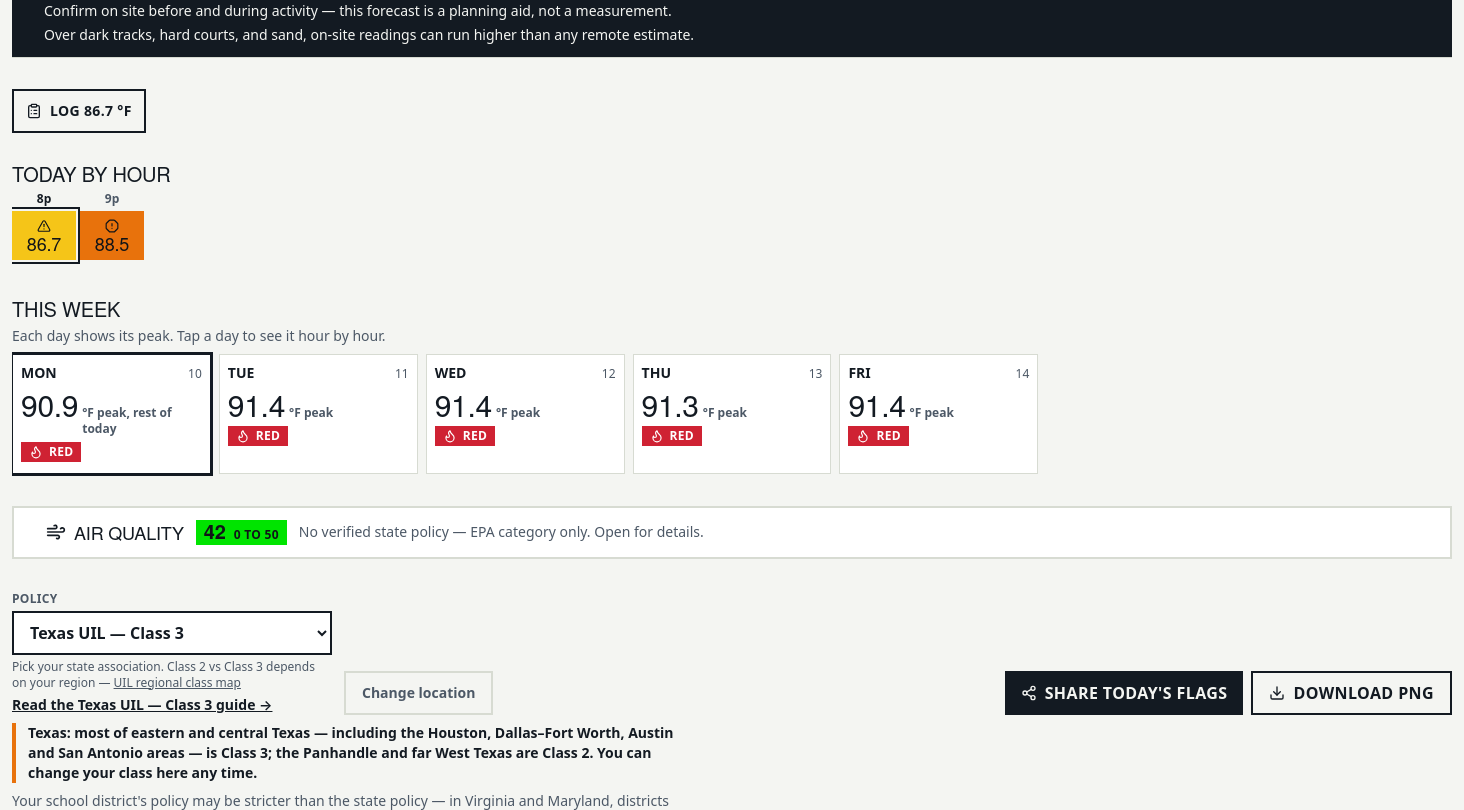
Test: week strip drill-down › the hourly view changes content, not just its label
(page scrolled)
Expected: the heading "This week" is shown, [12,294,120,323]
What coordinates should you click on to do the following:
click the button "Wed 12 91.4 °F peak RED"
I would click on:
 (525, 406)
Its box is [427,355,624,457].
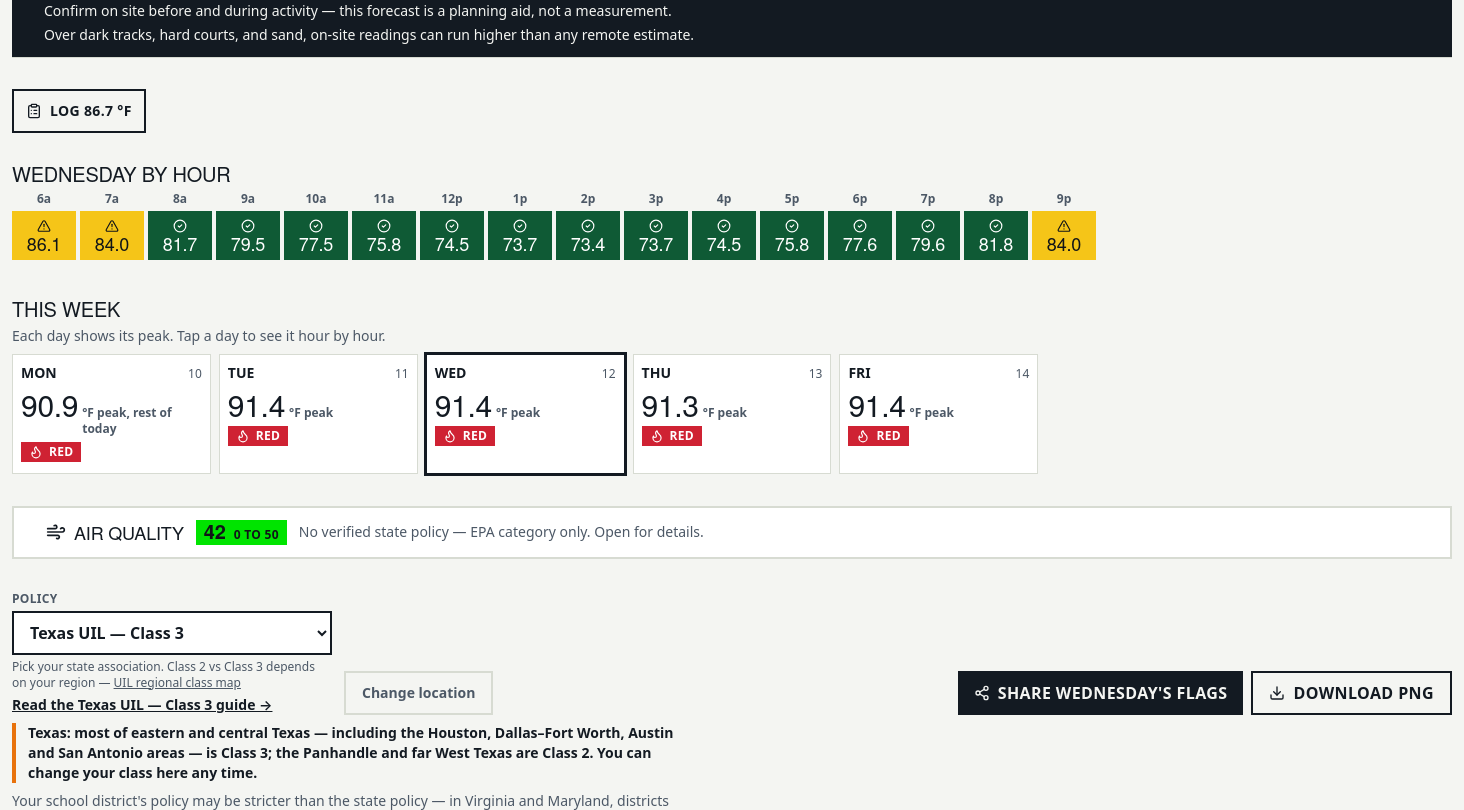
What coordinates should you click on to do the following:
click the button "Tue 11 91.4 °F peak RED"
I would click on:
 (318, 406)
Its box is [220,355,417,457].
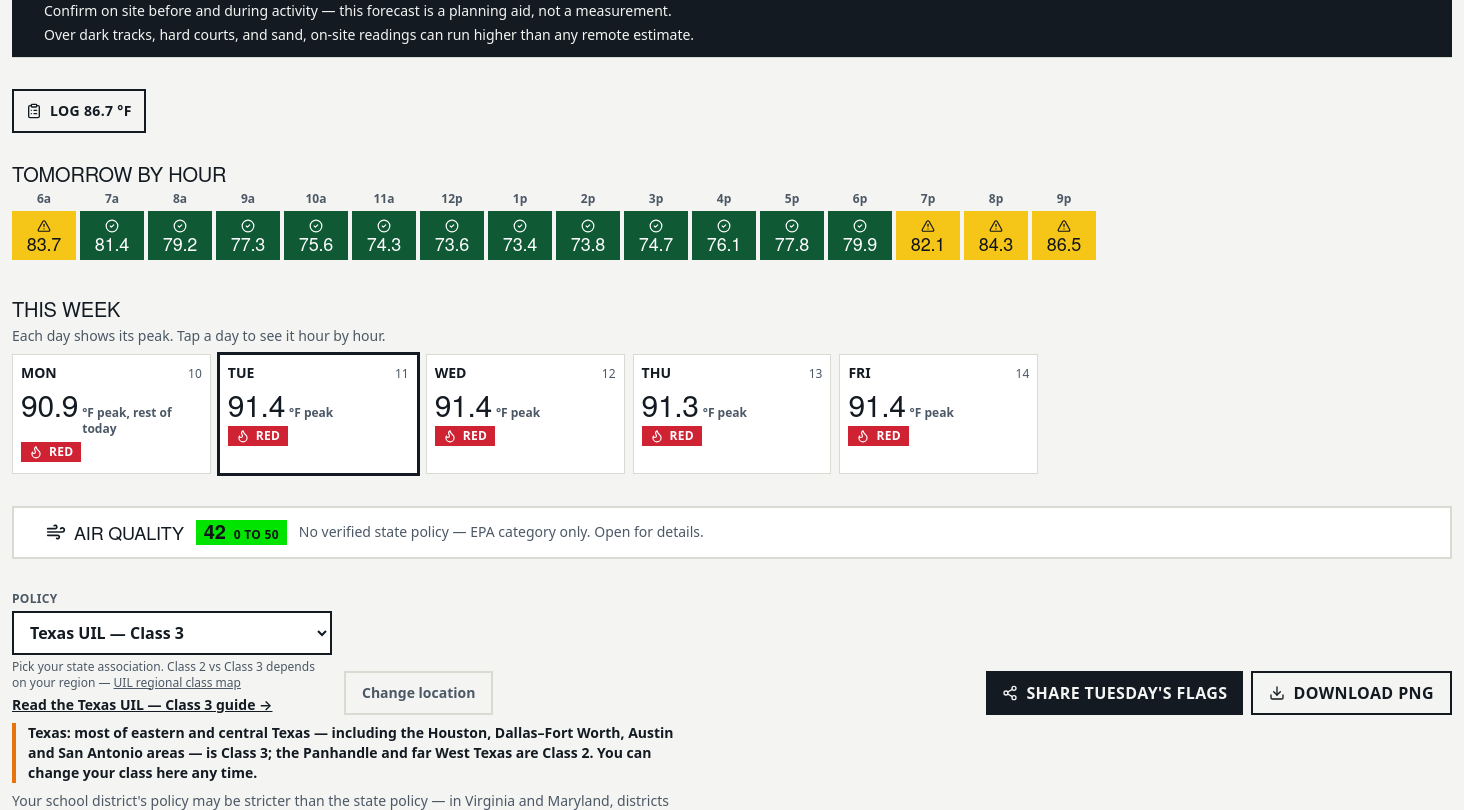
And returning to today restores the "today" heading either way.
What coordinates should you click on to do the following:
click the button "Mon 10 90.9 °F peak, rest of today RED"
I would click on:
 (111, 414)
Its box is [13,355,210,473].
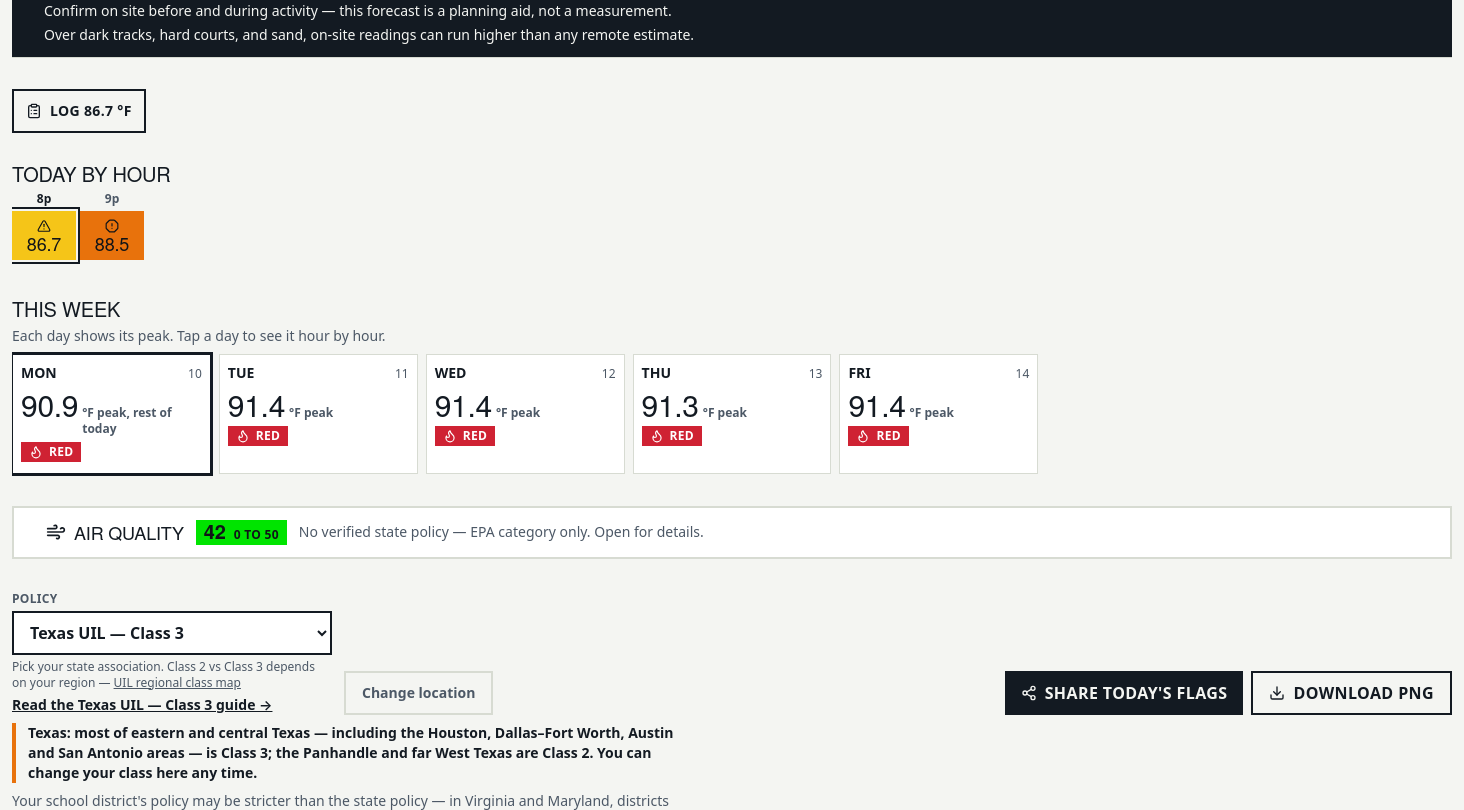
Result: the heading "Today by hour" is shown at [12,159,170,188]
